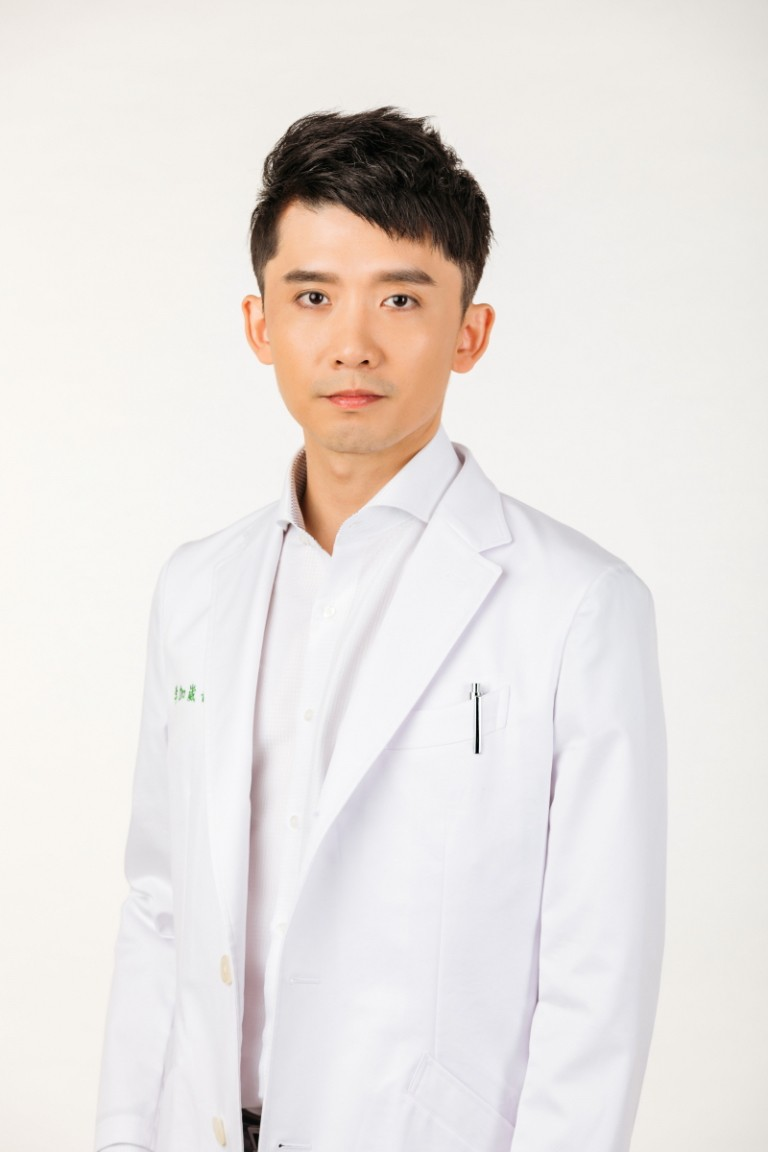people: (210, 103, 515, 1152)
